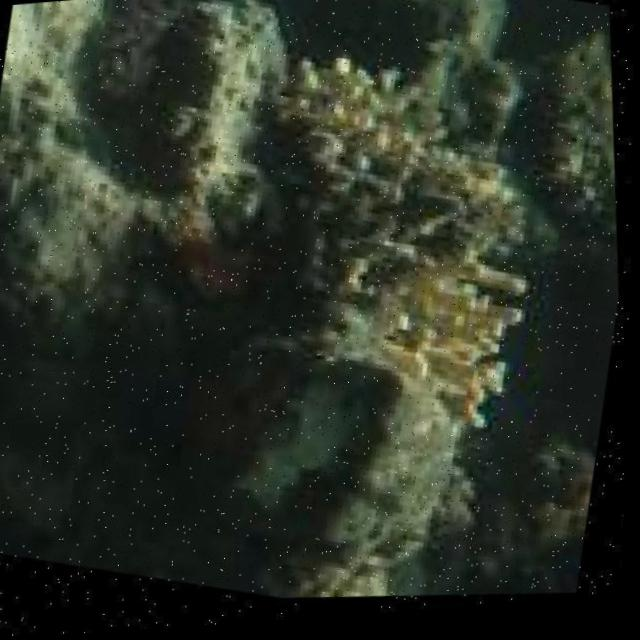Bleached Coral: (395, 269, 562, 431)
Dead Coral: (266, 166, 462, 312), (274, 21, 464, 153)
